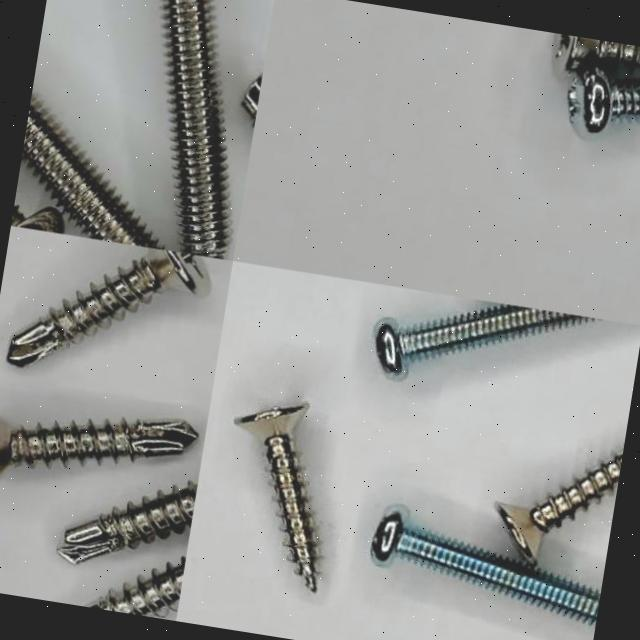Screw: (370, 513, 601, 628), (8, 248, 210, 367), (21, 104, 163, 250), (22, 102, 161, 250), (164, 0, 228, 259), (377, 304, 597, 376), (233, 404, 315, 592), (496, 452, 623, 564), (57, 483, 198, 564), (0, 419, 197, 474), (90, 558, 186, 618), (567, 65, 640, 137), (553, 33, 640, 70)
